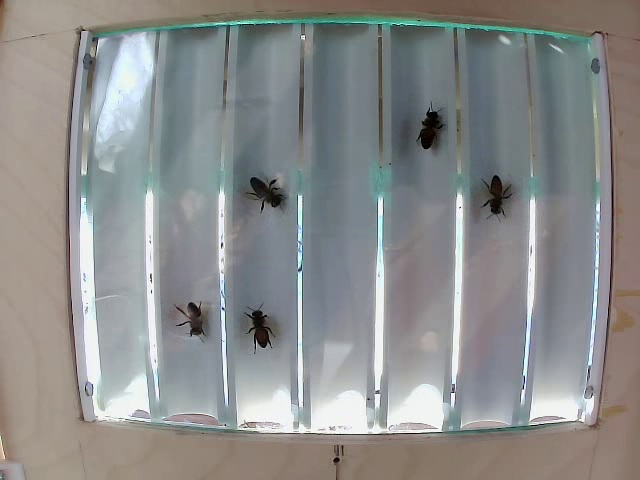bee: (474, 171, 525, 229), (230, 177, 278, 227), (233, 307, 277, 350), (173, 290, 215, 334), (411, 105, 443, 148)
